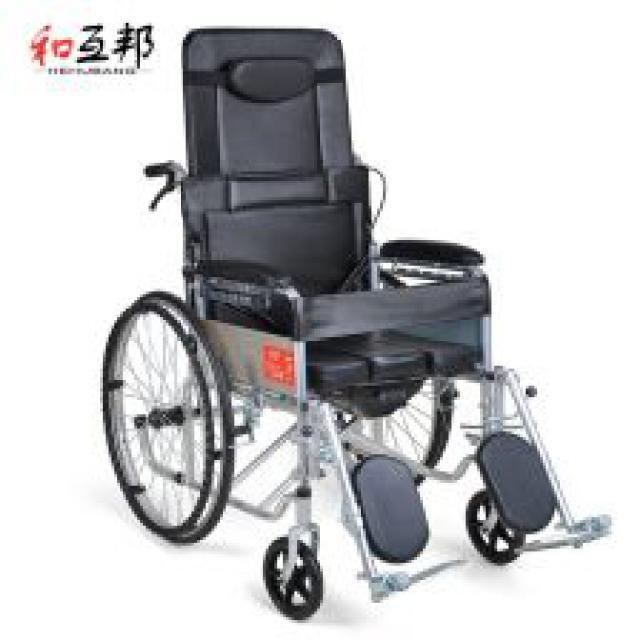wheelchair: (92, 8, 618, 620)
